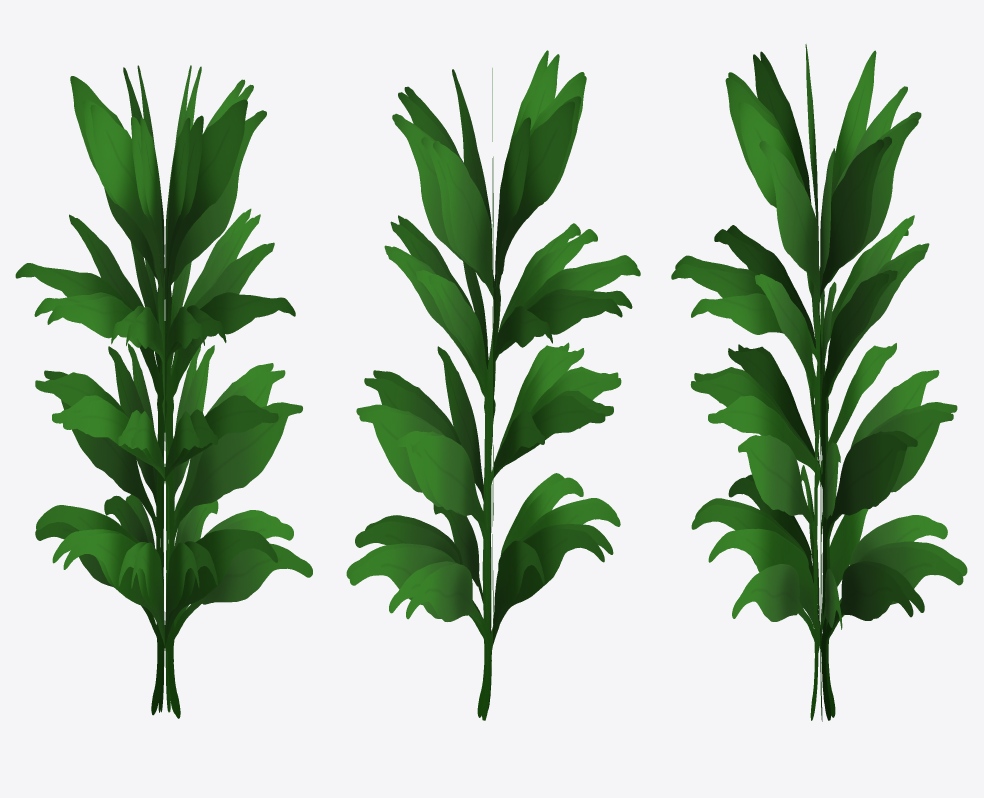
Rendered from PlantaGrande 1.fbx.
3 renders of one model, left to right at view 1: azimuth 30°, elevation 25°; view 2: azimuth 150°, elevation 25°; view 3: azimuth 270°, elevation 25°, orthographic.
Visible parts, largest first — view 1: PlantaLarga; view 2: PlantaLarga; view 3: PlantaLarga.
Part boxes in pixels (x1=…): PlantaLarga: x1=15, y1=65, x2=312, y2=718; PlantaLarga: x1=346, y1=50, x2=640, y2=720; PlantaLarga: x1=671, y1=44, x2=967, y2=721.
Bounding box in the file's own units: 88.6 × 208 × 88.12.
